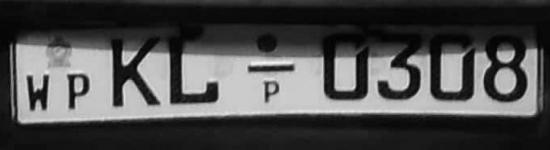-: (239, 59, 301, 77)
0: (310, 26, 375, 106), (427, 28, 482, 104)
3: (377, 26, 427, 105)
8: (483, 27, 535, 105)
K: (106, 32, 167, 112)
L: (166, 34, 232, 110)
S: (62, 69, 98, 114)
W: (22, 70, 58, 116)
